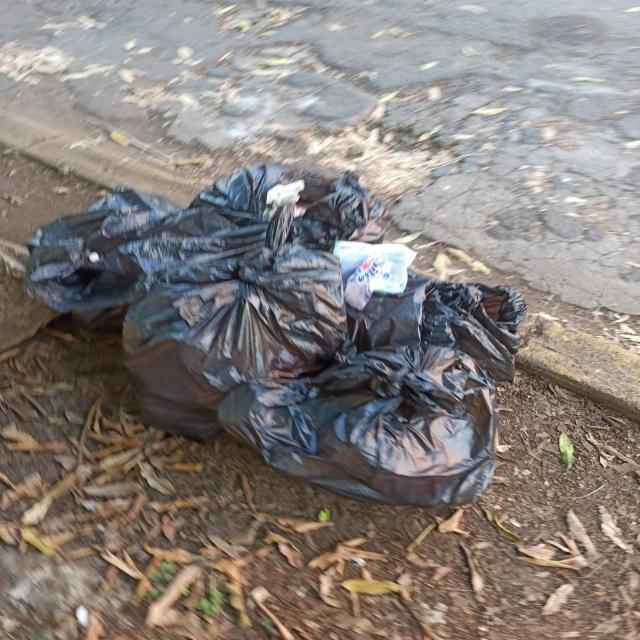high trash: (26, 164, 525, 506)
